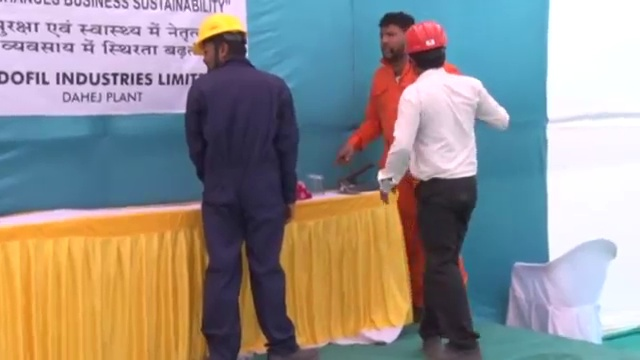helmet: (191, 14, 248, 55), (403, 21, 449, 54)
helmet_off: (379, 12, 414, 64)
helmet_on: (189, 14, 249, 71), (403, 20, 450, 72)
person: (384, 19, 509, 360), (185, 14, 302, 360), (340, 11, 471, 314)
